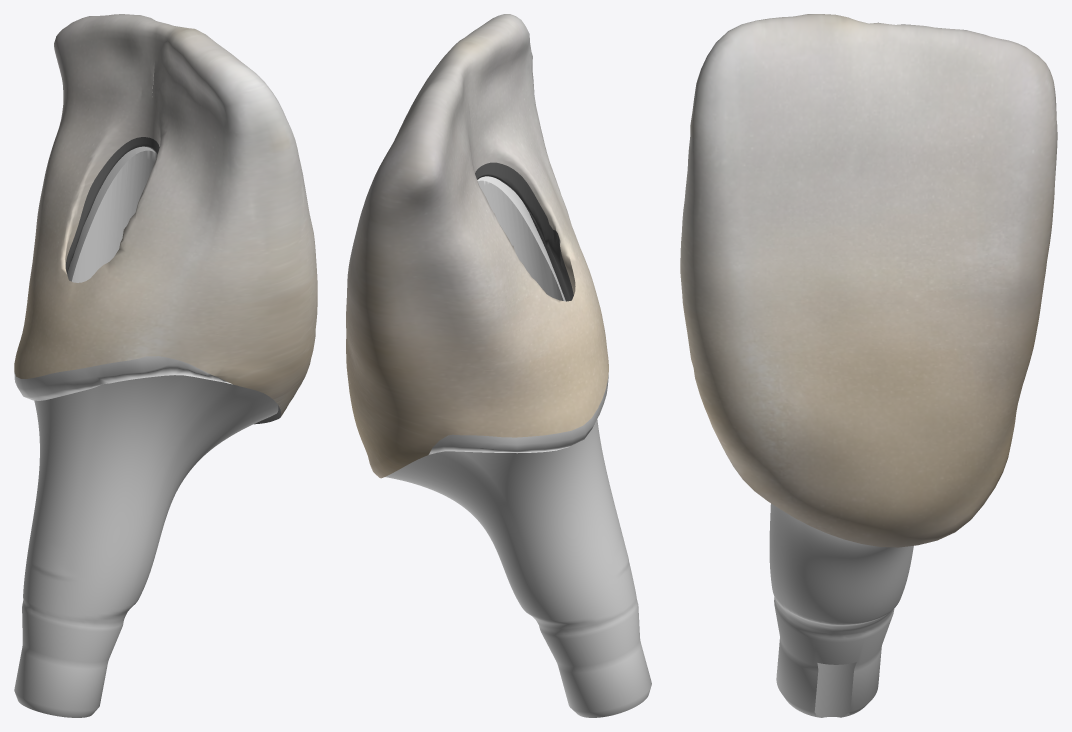
The model's file is implant-model.glb.
3 views of the same model, side by side, from view 1: azimuth 30°, elevation 25°; view 2: azimuth 150°, elevation 25°; view 3: azimuth 270°, elevation 25° (orthographic). The views are drawn at different scales.
Parts seen in each view (by area): view 1: Retopo_Anterior Zirconia S_R full contour crown_PFMsilv_9d7e, Abutment S_R Anterior Crown_cad (1).005; view 2: Retopo_Anterior Zirconia S_R full contour crown_PFMsilv_9d7e, Abutment S_R Anterior Crown_cad (1).005; view 3: Retopo_Anterior Zirconia S_R full contour crown_PFMsilv_9d7e, Abutment S_R Anterior Crown_cad (1).005.
Boxes of the visible parts, x1=… form: Retopo_Anterior Zirconia S_R full contour crown_PFMsilv_9d7e: x1=14, y1=14, x2=317, y2=424; Abutment S_R Anterior Crown_cad (1).005: x1=14, y1=146, x2=278, y2=717; Retopo_Anterior Zirconia S_R full contour crown_PFMsilv_9d7e: x1=346, y1=14, x2=608, y2=478; Abutment S_R Anterior Crown_cad (1).005: x1=385, y1=176, x2=651, y2=717; Retopo_Anterior Zirconia S_R full contour crown_PFMsilv_9d7e: x1=680, y1=14, x2=1057, y2=547; Abutment S_R Anterior Crown_cad (1).005: x1=769, y1=503, x2=913, y2=717.
Bounding box in the file's own units: 8.29 × 19.29 × 8.67.
3 materials, 1 textured.
